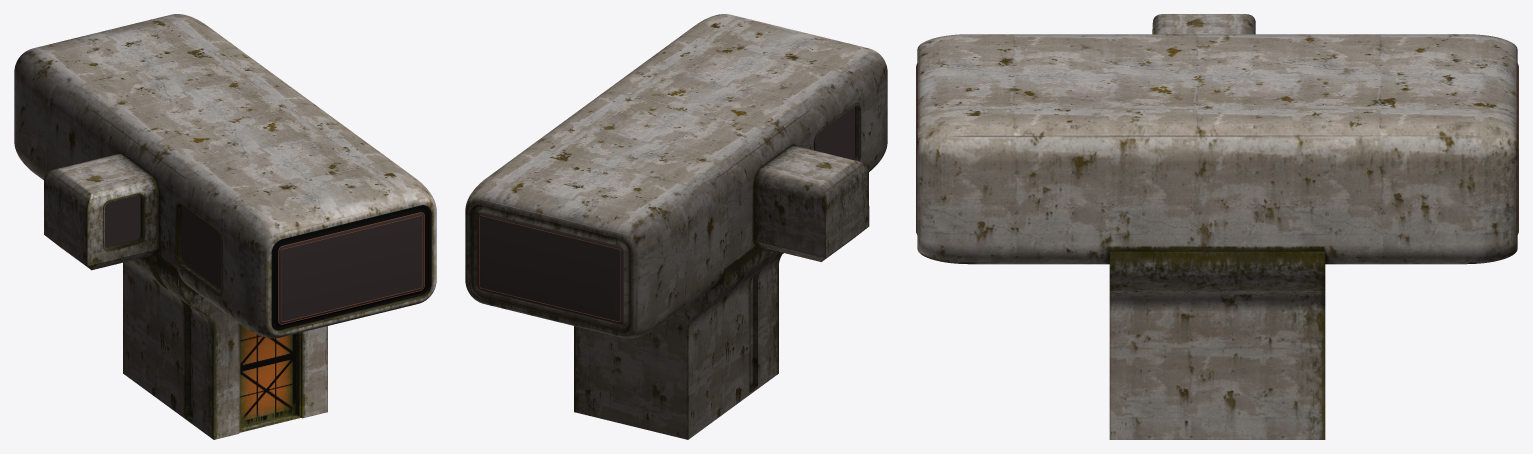
Rendered from smallBuilding2.obj.
3 renders of one model, left to right at view 1: azimuth 30°, elevation 25°; view 2: azimuth 150°, elevation 25°; view 3: azimuth 270°, elevation 25°, orthographic. The views are drawn at different scales.
Visible parts, largest first — view 1: Object_4; view 2: Object_4; view 3: Object_4.
Boxes of the visible parts, box(x1,y1,x2,y2) form: Object_4: box(14, 14, 436, 439); Object_4: box(465, 14, 887, 439); Object_4: box(916, 14, 1518, 439).
Size of the model in its own units: 4.51 by 4.61 by 7.64.
